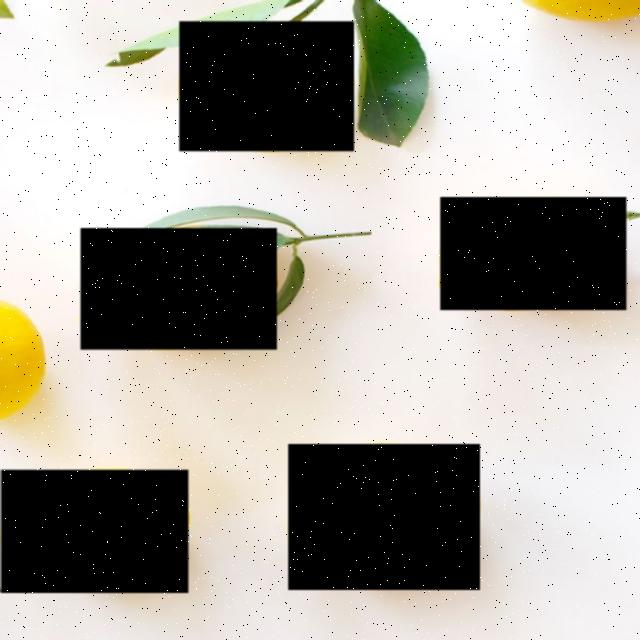Lemon: (288, 444, 480, 590), (81, 228, 277, 350), (1, 470, 188, 593), (179, 21, 354, 151), (440, 197, 626, 310)
